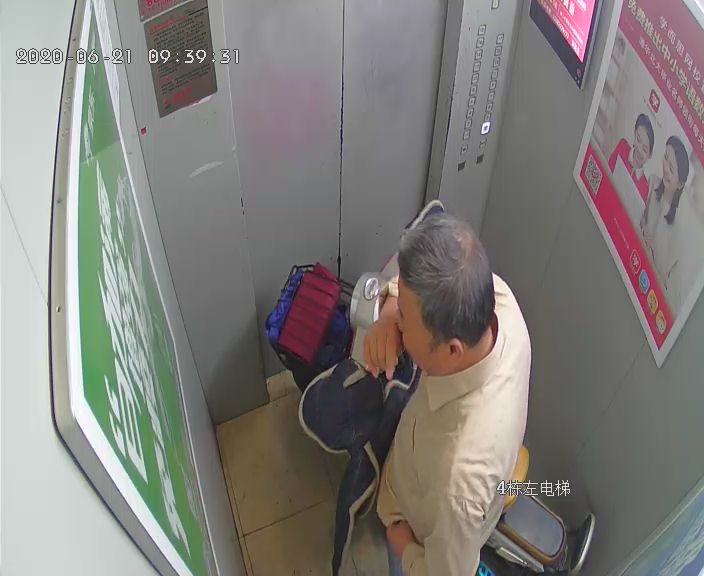Electric-bicycle: (265, 204, 593, 573)
